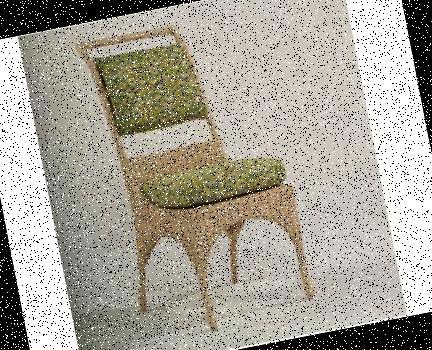Silla: (78, 4, 319, 347)
